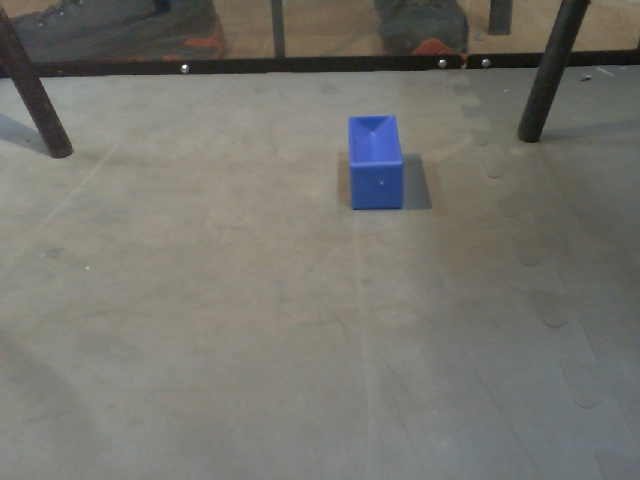BlueSample: (344, 114, 408, 215)
